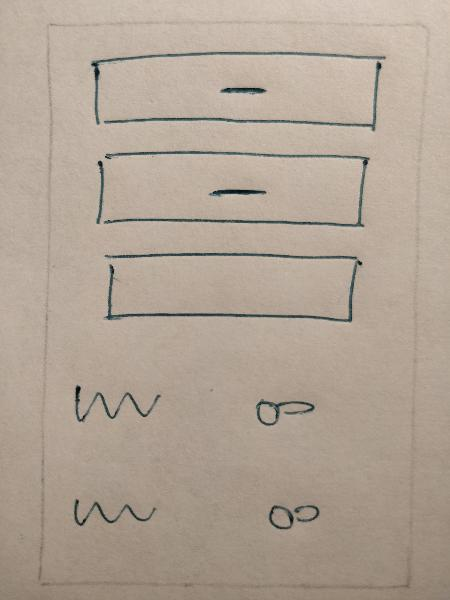button: (83, 44, 387, 137), (84, 145, 375, 241)
switch: (240, 383, 325, 436), (254, 488, 337, 541)
text: (63, 373, 165, 436), (63, 480, 163, 538)
text_input: (96, 246, 366, 331)
